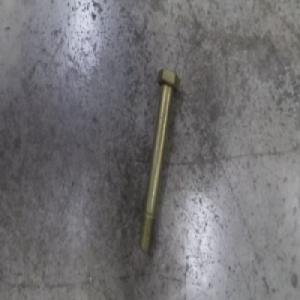Bolt: (138, 64, 181, 255)
